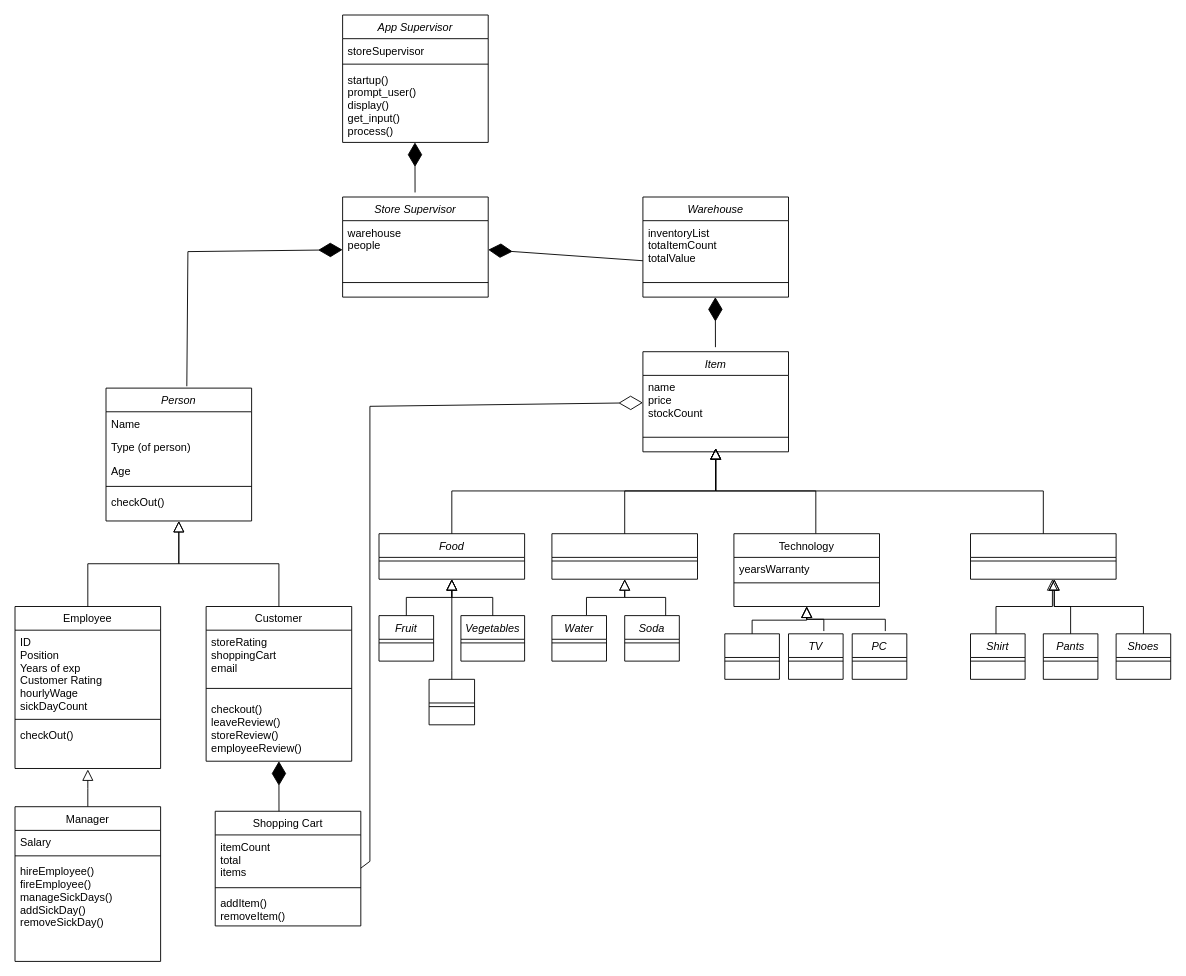
Some shapes in this 1186 by 976 pixel diagram are drawn without their labels. Each missing label, with the centre of its shape:
Clothing: the point at 1043,556
Drink: the point at 624,556
Meat: the point at 451,701
Phone: the point at 751,656
